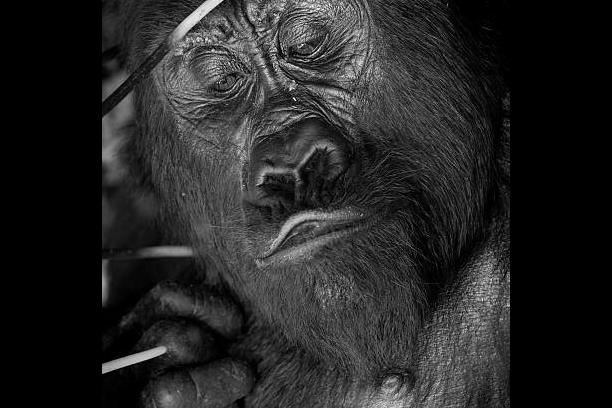goriile_montagne: (124, 0, 489, 344)
